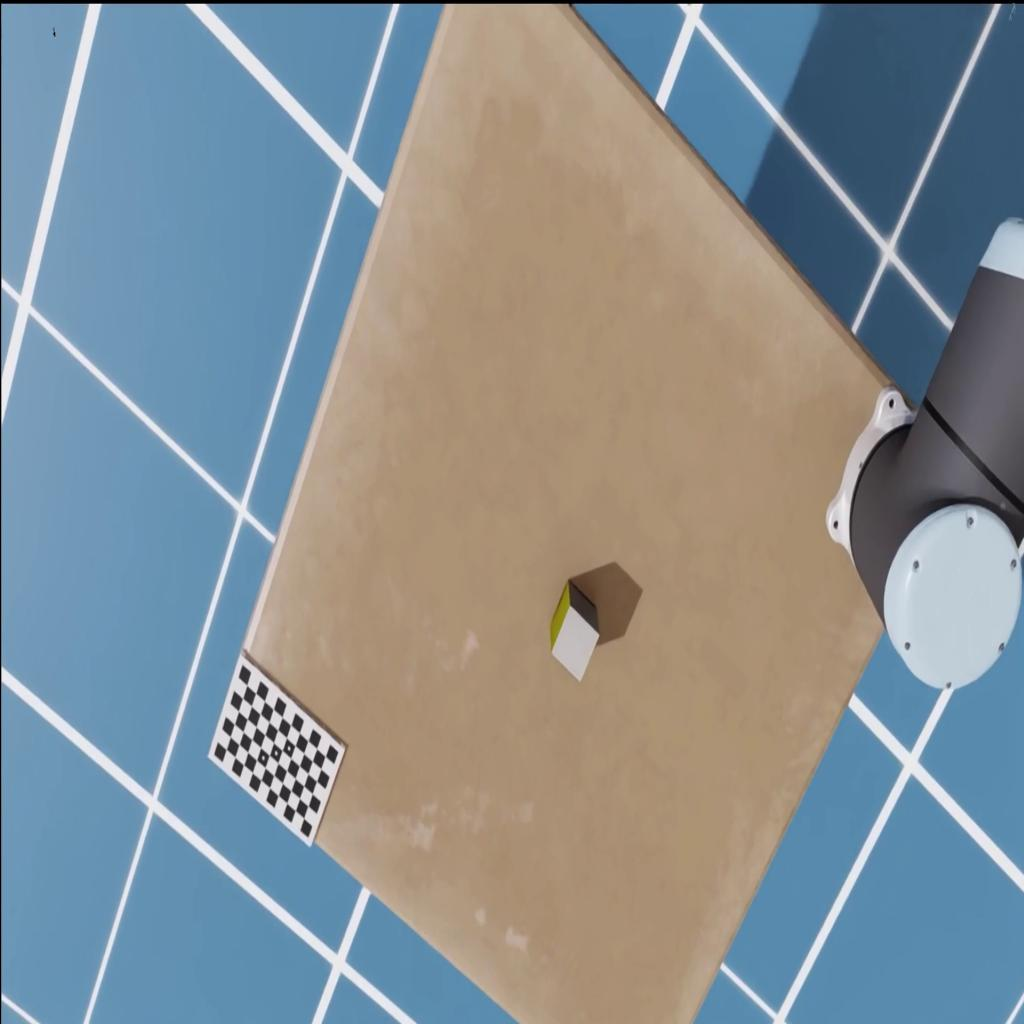Cube: (549, 578, 599, 682)
QR: (206, 648, 346, 848)
Robot: (826, 215, 1024, 692)
Table: (208, 1, 946, 1024)
